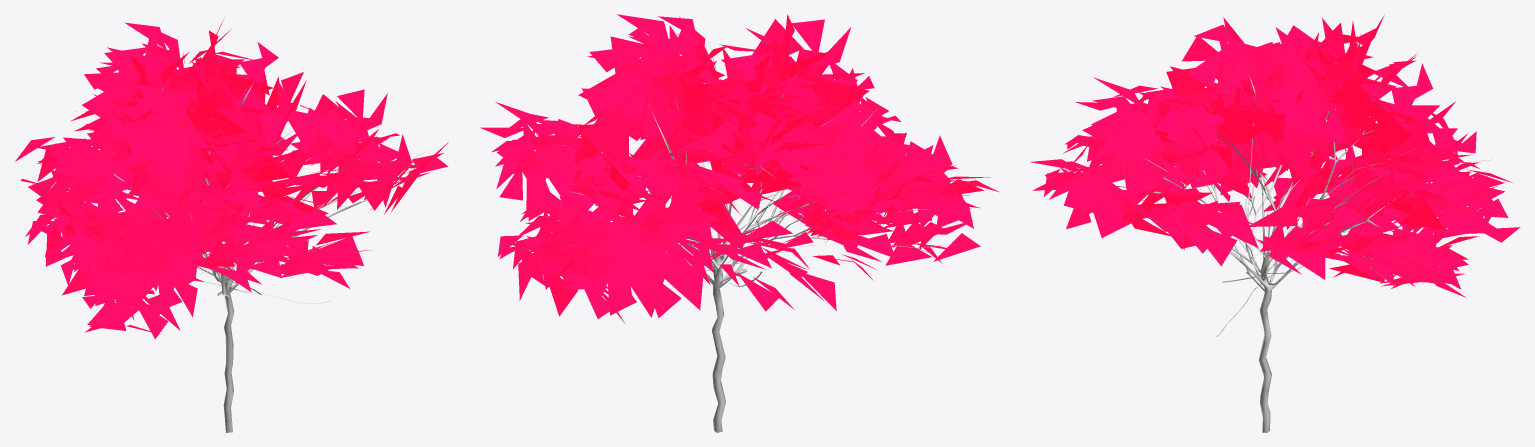
The model's file is arbres_vivants.fbx.
The picture shows the model from 3 angles, left to right: view 1: azimuth 30°, elevation 25°; view 2: azimuth 150°, elevation 25°; view 3: azimuth 270°, elevation 25°; orthographic projection. The views are drawn at different scales.
Visible parts, largest first — view 1: medium_tree_2; view 2: medium_tree_2; view 3: medium_tree_2.
Part boxes in pixels (box(x1,y1,x2,y2)): medium_tree_2: box(15, 17, 448, 432); medium_tree_2: box(480, 14, 999, 432); medium_tree_2: box(1030, 15, 1520, 432).
Bounding box in the file's own units: 11399 × 10564 × 11933.
